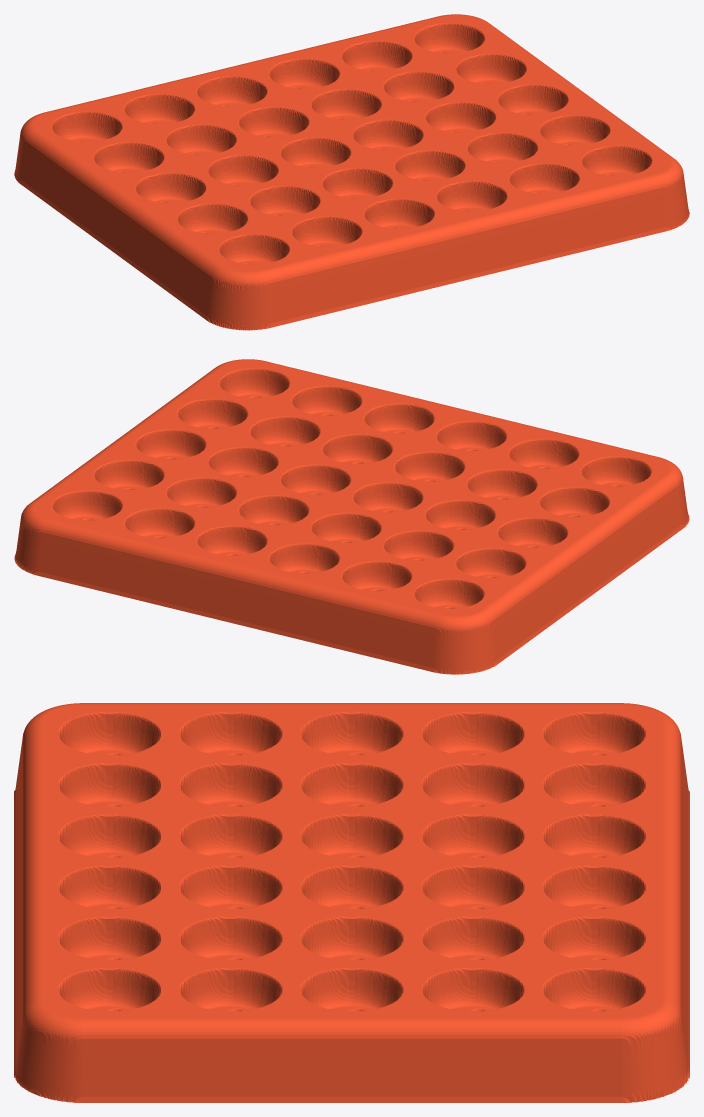
Rendered from mold.glb.
3 views of the same model, one above another, from view 1: azimuth 30°, elevation 25°; view 2: azimuth 150°, elevation 25°; view 3: azimuth 270°, elevation 25° (orthographic). The views are drawn at different scales.
Parts seen in each view (by area): view 1: geometry_0; view 2: geometry_0; view 3: geometry_0.
Boxes of the visible parts, x1=… form: geometry_0: x1=14, y1=14, x2=689, y2=330; geometry_0: x1=14, y1=359, x2=689, y2=674; geometry_0: x1=14, y1=703, x2=689, y2=1102.
Bounding box in the file's own units: 0.104 × 0.0105 × 0.0882.
